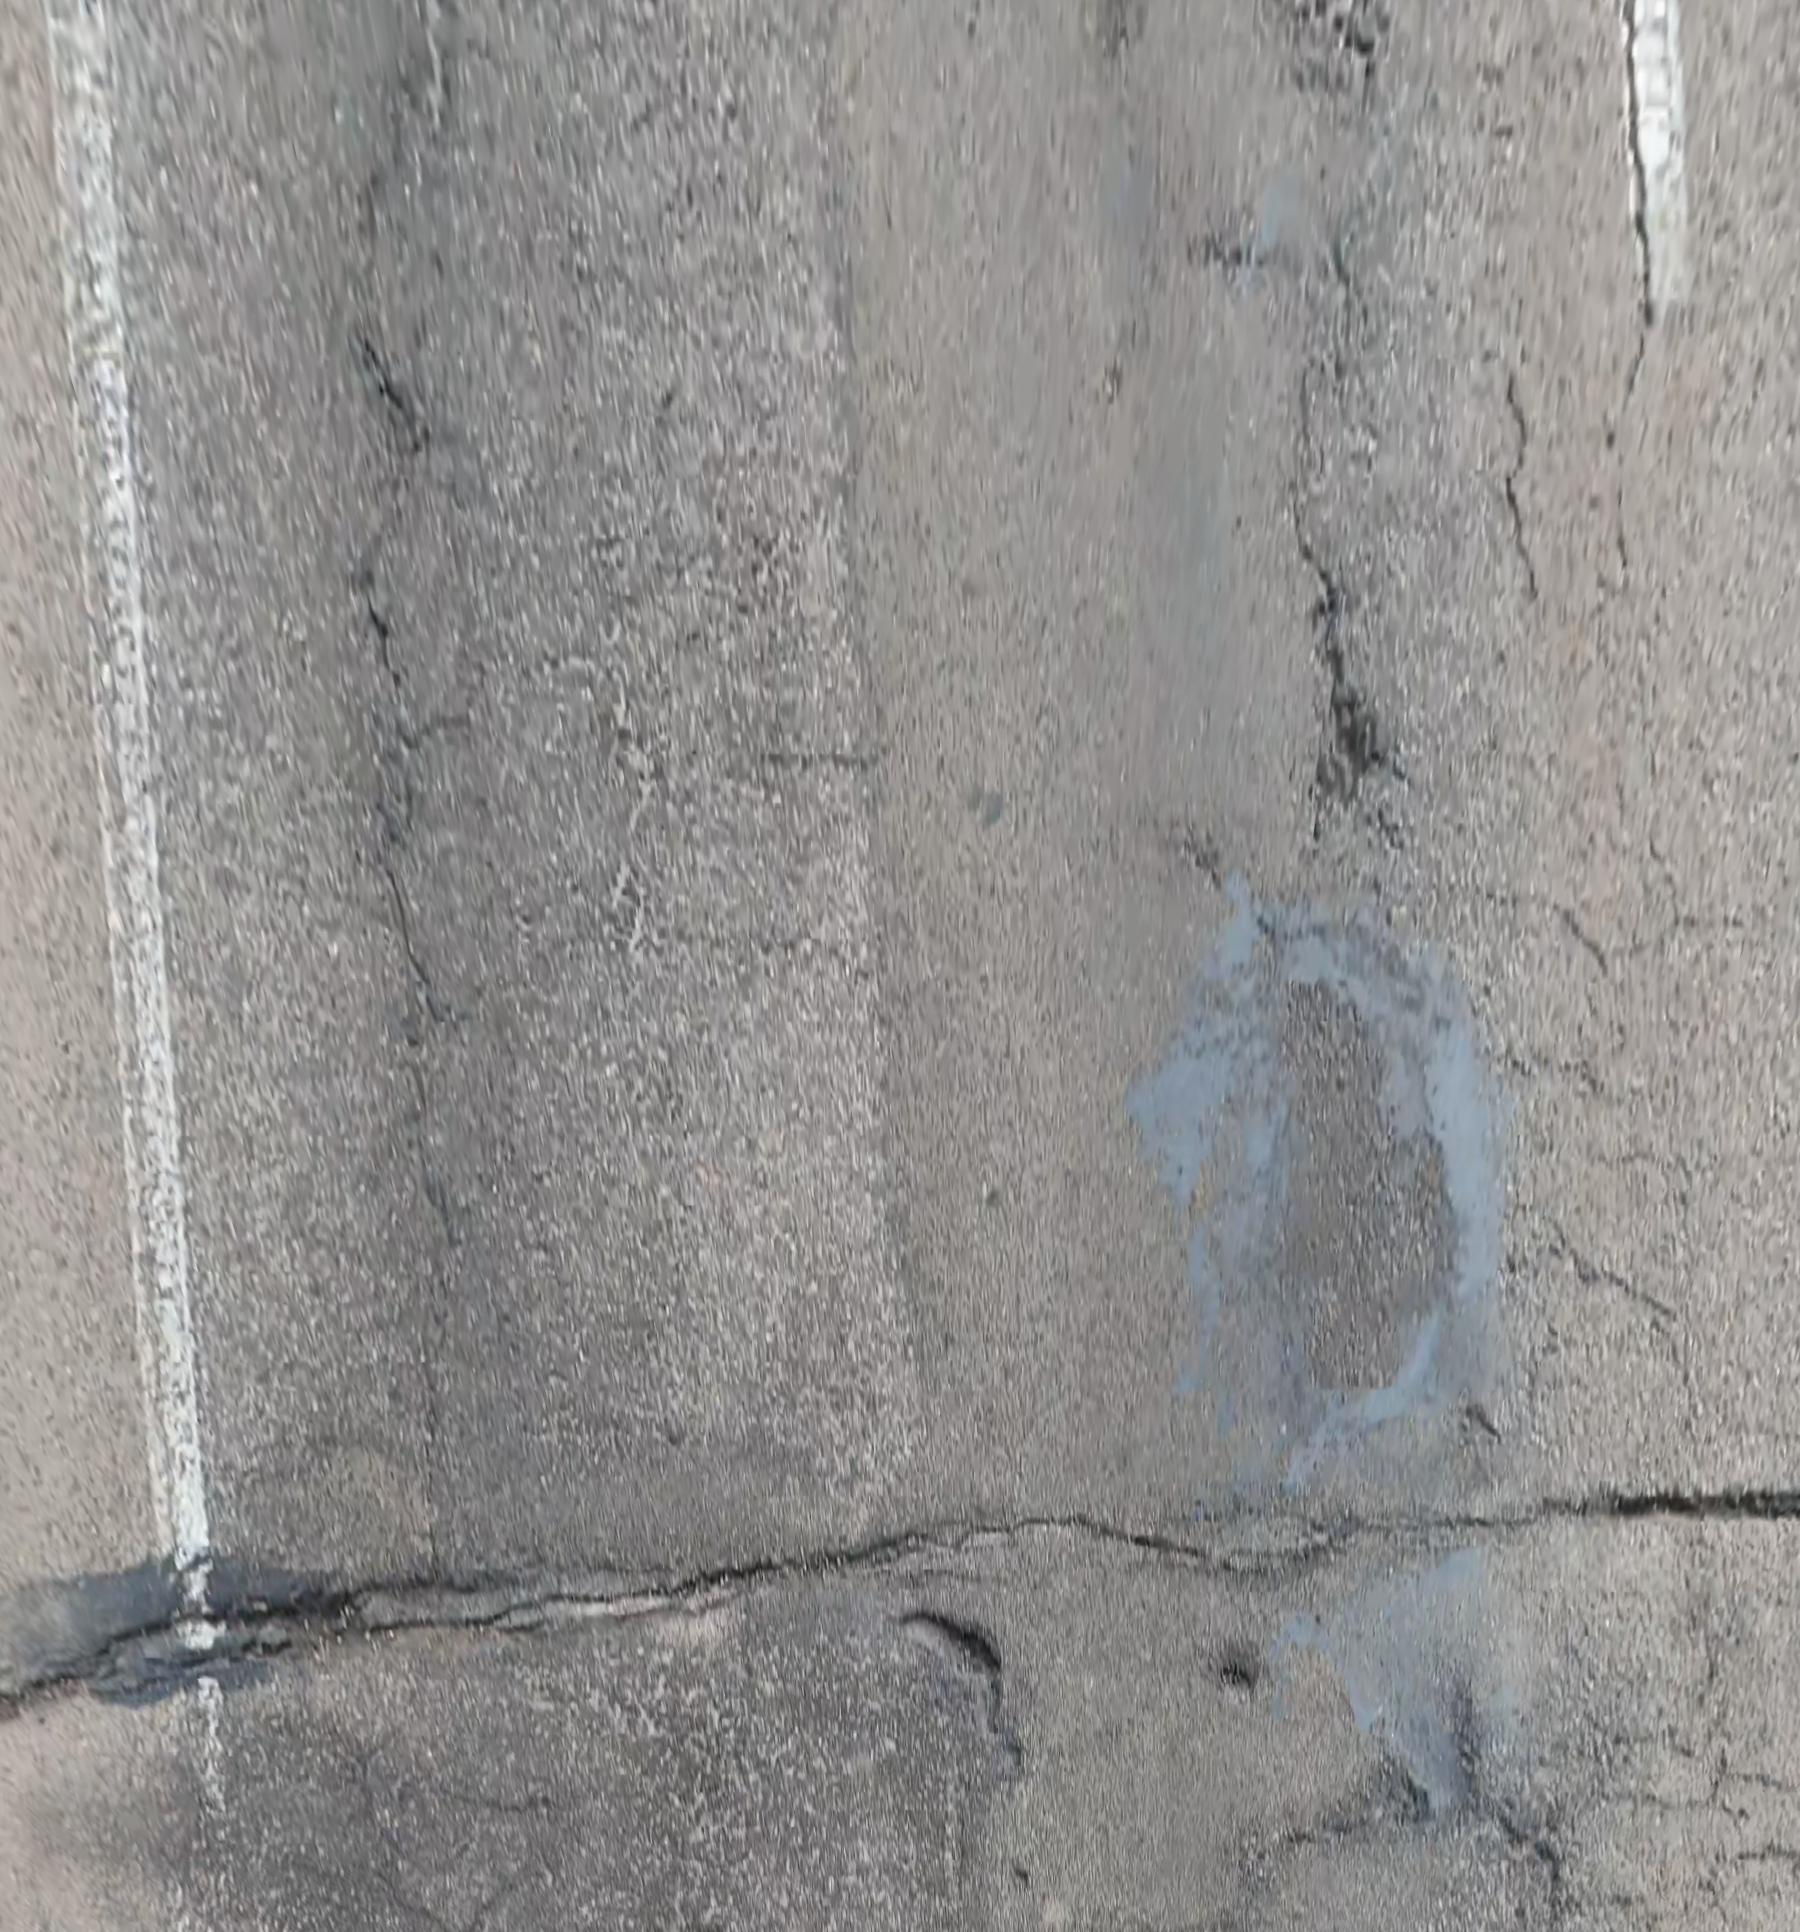pothole: (1316, 567, 1404, 809), (902, 1612, 1023, 1785), (1220, 1644, 1260, 1695)
pothole_patch_good: (1144, 902, 1545, 1502), (1289, 1533, 1482, 1805)
pothole_patch_poor: (1206, 1765, 1573, 1932), (0, 1558, 350, 1717)
